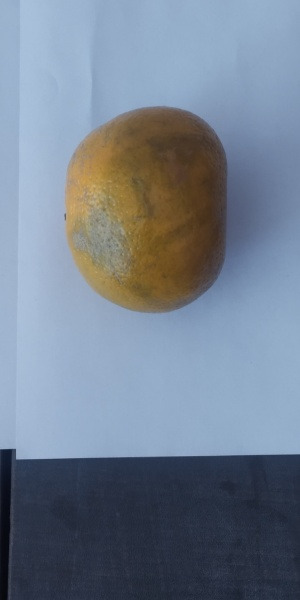BAD: (62, 107, 242, 317)
